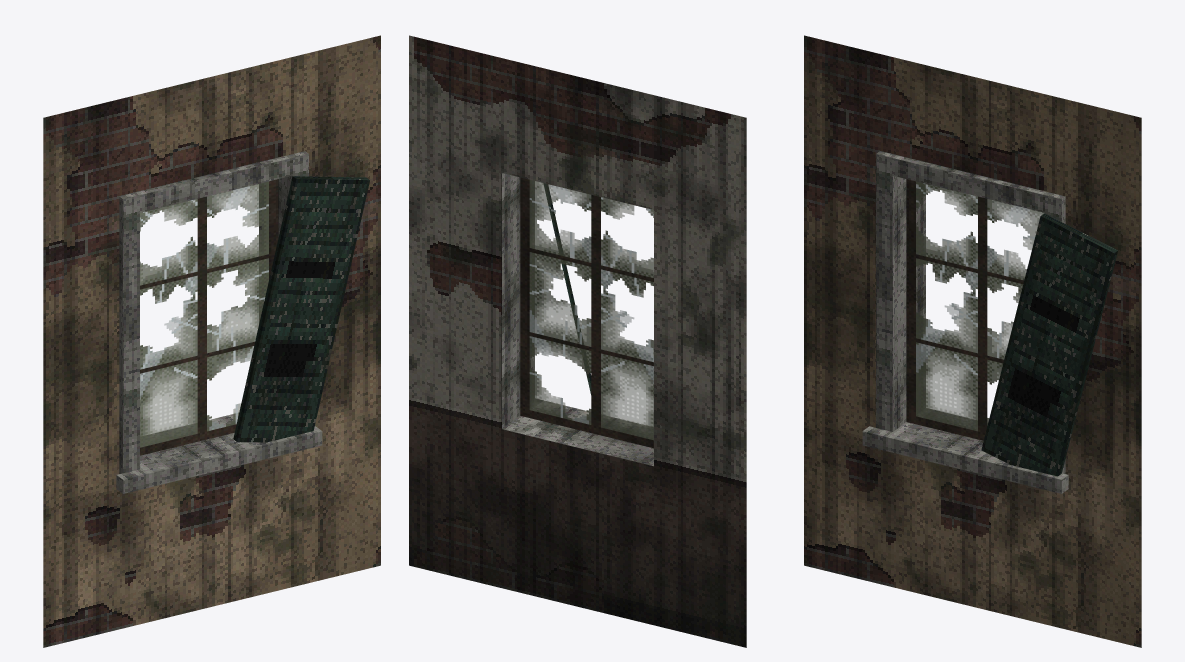
Rendered from ext_window_rect_broken.gltf.
3 renders of one model, left to right at view 1: azimuth 30°, elevation 25°; view 2: azimuth 150°, elevation 25°; view 3: azimuth 330°, elevation 25°, orthographic.
Visible parts, largest first — view 1: ext_window_rect_broken, ext_window_rect_broken_loose; view 2: ext_window_rect_broken, ext_window_rect_broken_loose; view 3: ext_window_rect_broken, ext_window_rect_broken_loose.
Boxes of the visible parts, bbox=[...] form: ext_window_rect_broken: bbox=[43, 35, 380, 647]; ext_window_rect_broken_loose: bbox=[140, 176, 369, 455]; ext_window_rect_broken: bbox=[409, 35, 746, 647]; ext_window_rect_broken_loose: bbox=[520, 177, 653, 448]; ext_window_rect_broken: bbox=[804, 35, 1141, 647]; ext_window_rect_broken_loose: bbox=[906, 179, 1117, 476].
Size of what is drawn, in the model's own units: 2 by 3 by 0.41.
5 materials, 5 textured.
